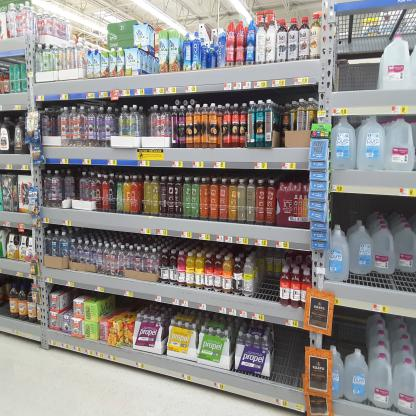Void: (335, 37, 377, 91), (274, 326, 302, 392), (253, 252, 278, 300), (334, 310, 360, 353), (109, 293, 146, 317), (356, 274, 414, 289), (1, 276, 10, 314), (62, 290, 73, 312)
